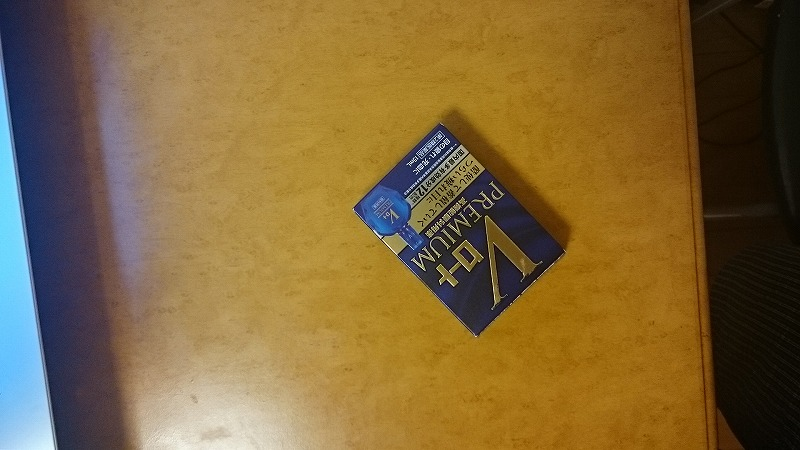D: (346, 118, 577, 344)
